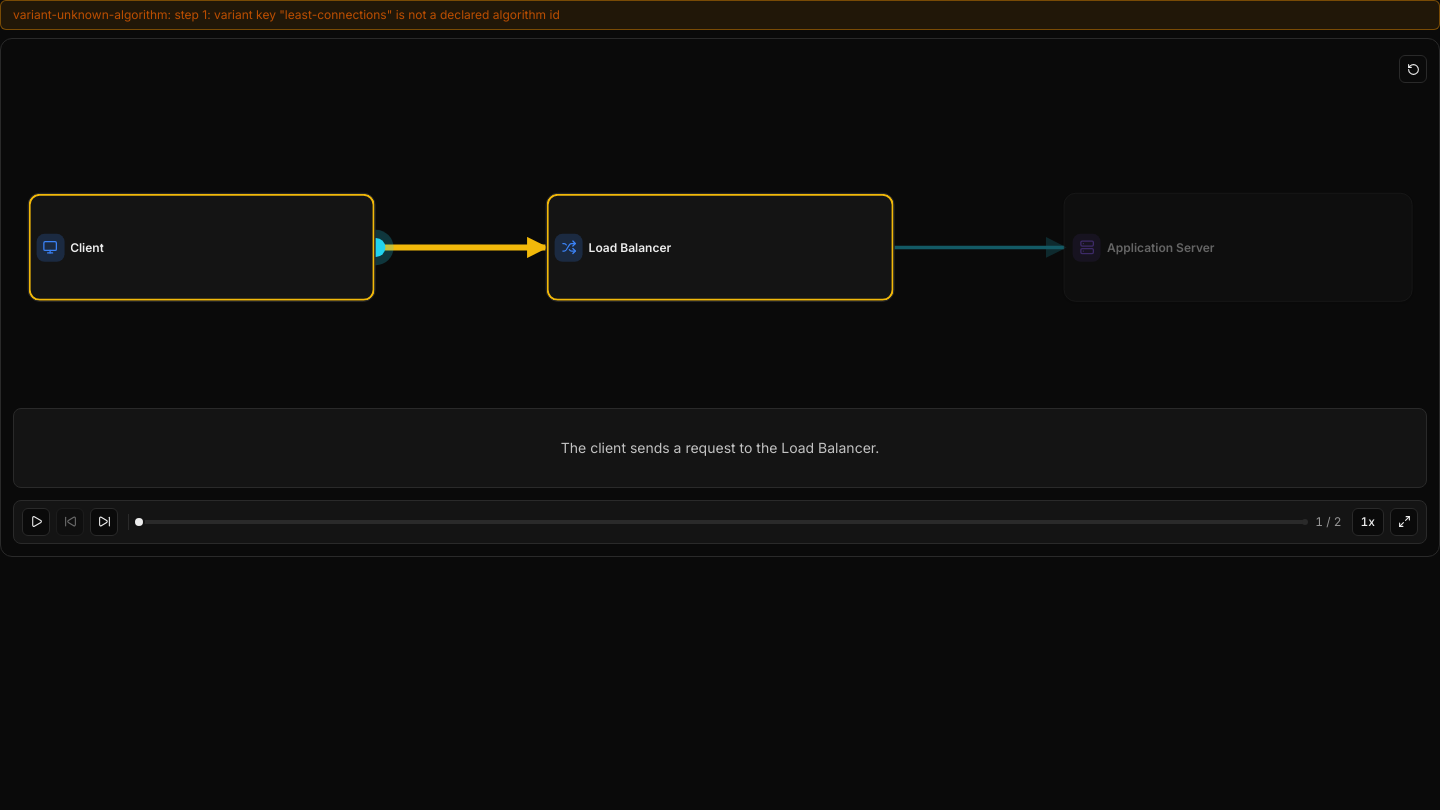
Test: Walkthrough › resets to step 1
Click the button named "next step".
click(104, 522)  # box [90, 508, 118, 536]
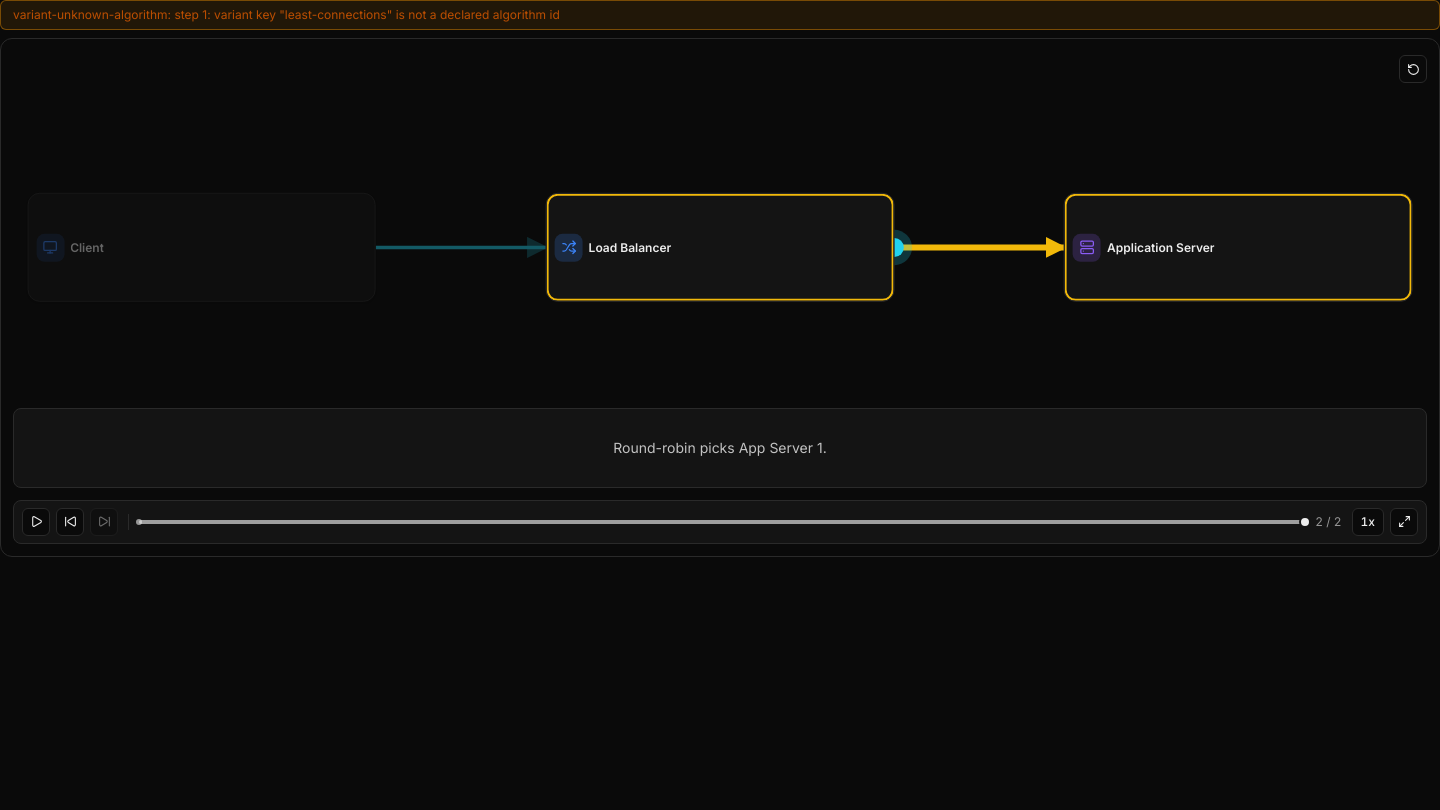
Check: the text "2 / 2" is shown, box [1315, 514, 1342, 529]
Click the button named "reset walkthrough".
click(1413, 69)  # box [1399, 55, 1427, 83]
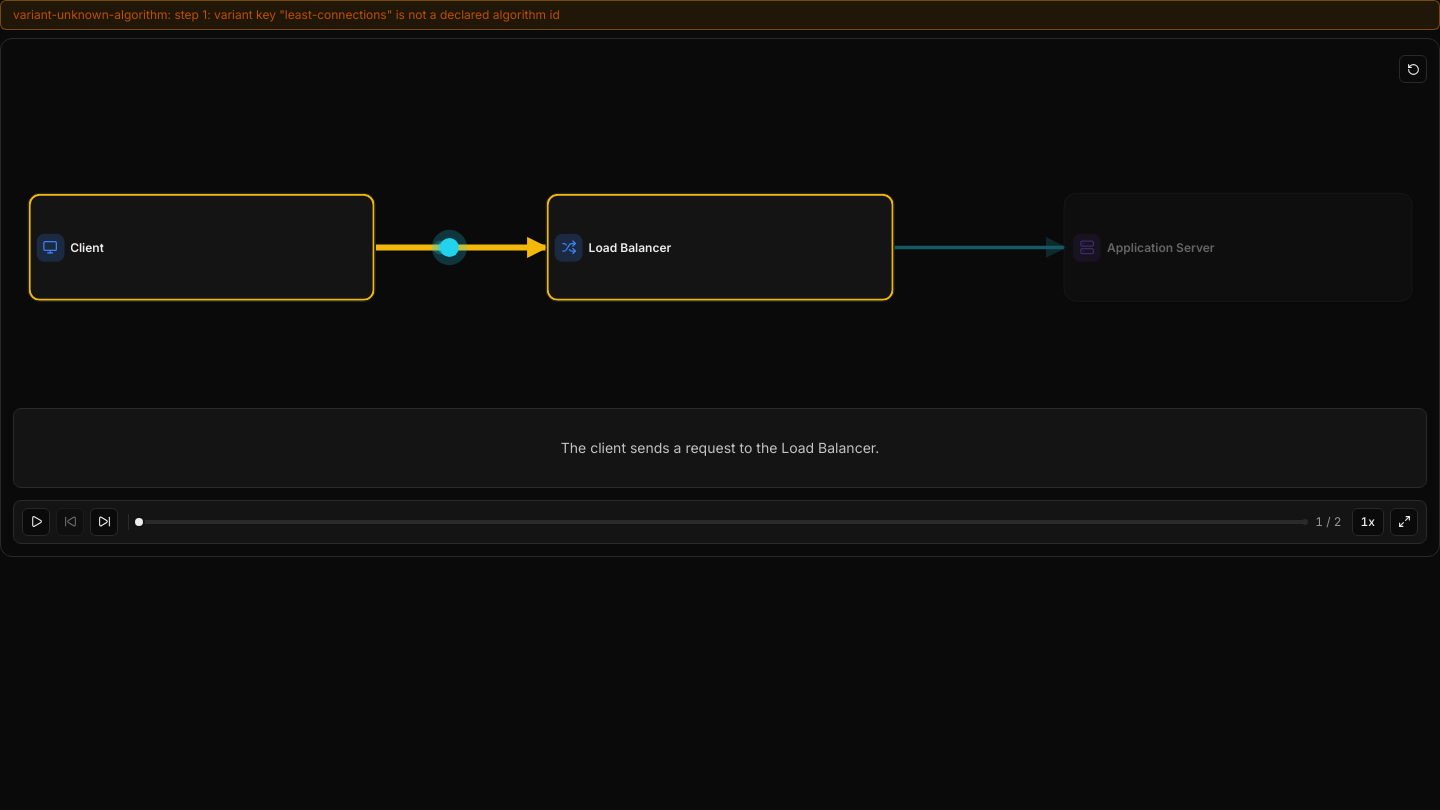
Check: the text "1 / 2" is shown, box [1315, 514, 1342, 529]
